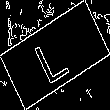L_NW: (33, 26, 77, 84)
